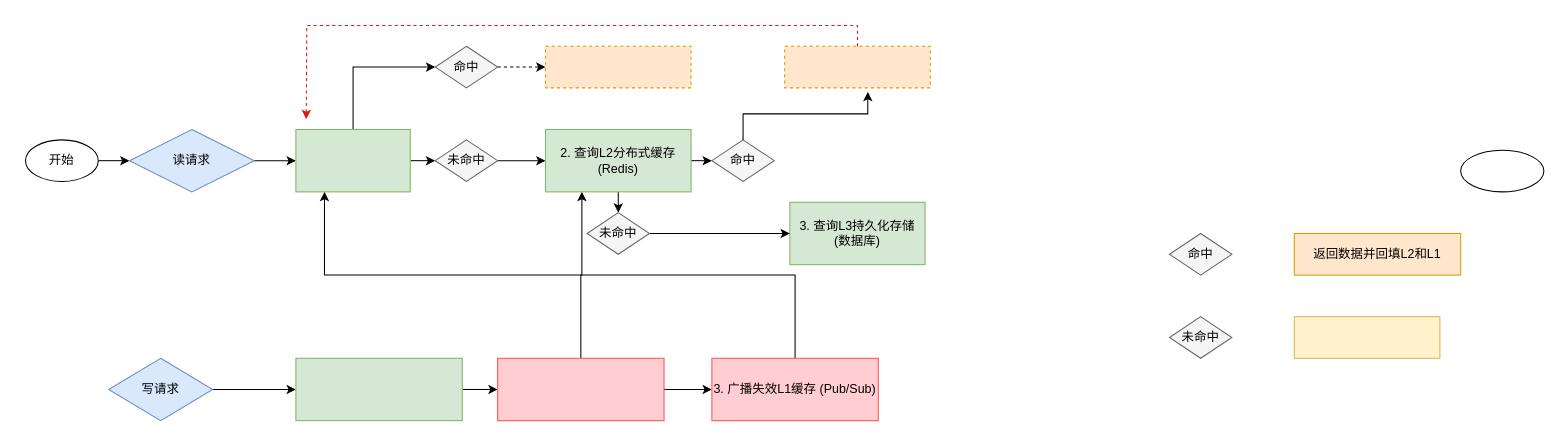
Image size: 1562x439. Some labels were removed from this diagram. The centre of each missing label's shape, as x and y in pixels:
"1. 写入L3数据库" goes at pixel 378 389.
"1. 查询L1本地缓存" goes at pixel 352 160.
"2. 失效或更新L2缓存 (Redis)" goes at pixel 580 389.
"直接返回数据" goes at pixel 617 66.
"结束" goes at pixel 1502 170.
"缓存空值或降级处理" goes at pixel 1366 337.
"返回数据并回填L1" goes at pixel 857 66.
